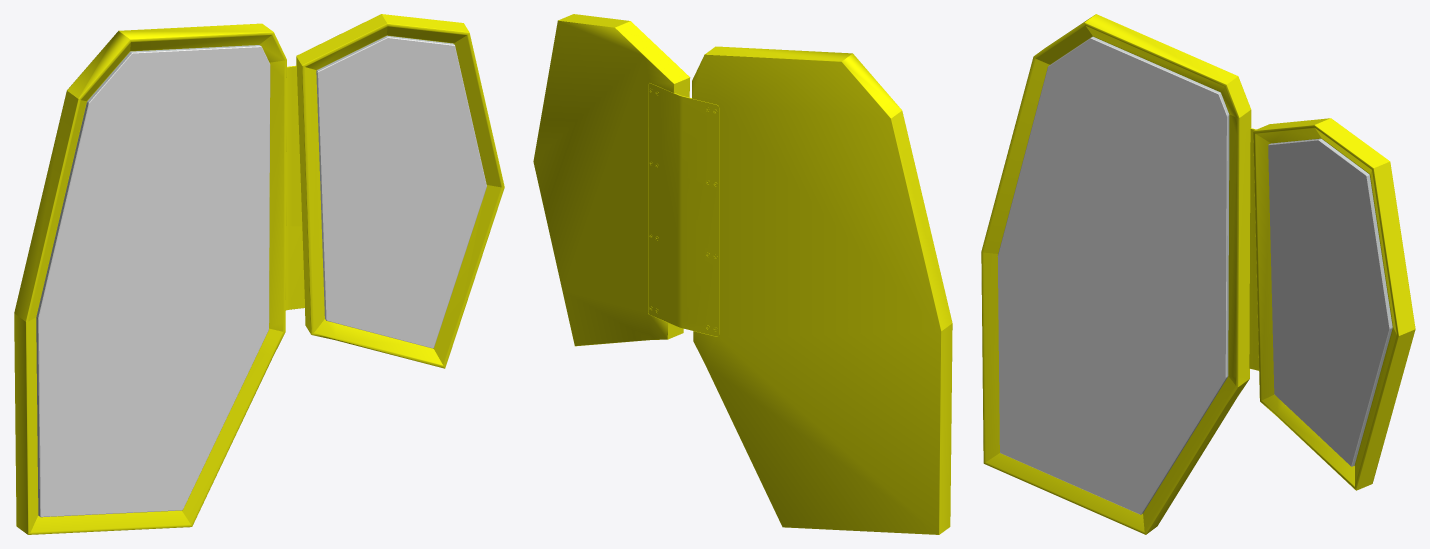
File: designconnected-eric-mirror-9776.optimized.glb
3 views of the same model, side by side, from view 1: azimuth 30°, elevation 25°; view 2: azimuth 150°, elevation 25°; view 3: azimuth 330°, elevation 25° (orthographic). The views are drawn at different scales.
Parts seen in each view (by area): view 1: Alberta_Eric_ERCSPD; view 2: Alberta_Eric_ERCSPD; view 3: Alberta_Eric_ERCSPD.
Part boxes in pixels (<box>): Alberta_Eric_ERCSPD: <box>14,14,504,534</box>; Alberta_Eric_ERCSPD: <box>533,14,952,534</box>; Alberta_Eric_ERCSPD: <box>981,14,1415,534</box>.
Size of the model in its own units: 1.11 by 1.17 by 0.1694.
